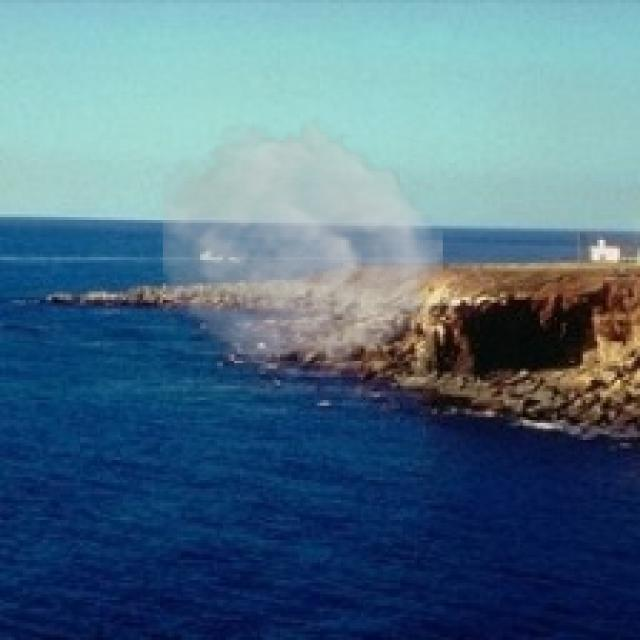Smoke: (163, 114, 443, 380)
